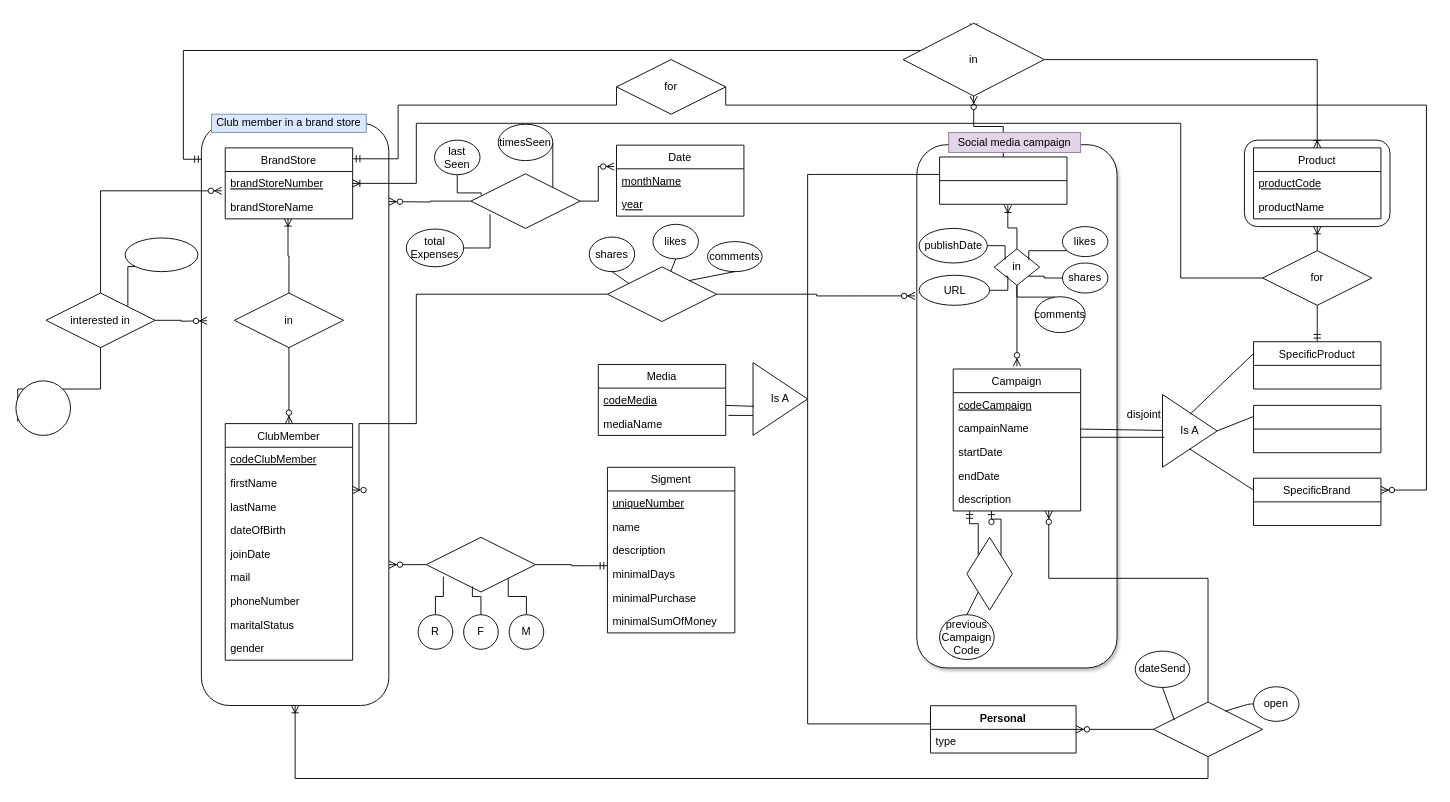
The diagram is 1450 pixels wide and 802 high, and some of its shapes have lost their labels. The shapes that lost their labels are listed below. From the top down, each one's centre as x and y in pixels, then its label:
At point 525,200: "Seen".
At point 1003,180: "Social".
At point 161,254: "updateDate".
At point 662,294: "Active".
At point 43,407: "markingOf Interest".
At point 1317,428: "General".
At point 480,564: "divided".
At point 989,573: "Continued of".
At point 1208,729: "getAdvertised".
